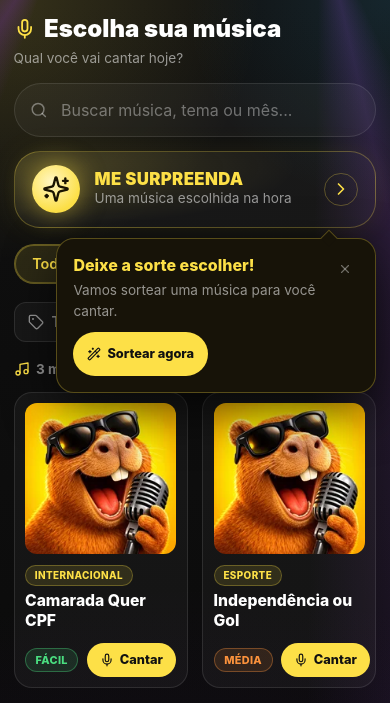
it: KaraokePage › shows the empty state for a search with no matches
This screenshot has width=390, height=703.
Expected: the text "Camarada Quer CPF" is shown, [25,591,146,630]
Type "zzzznadaaqui" into the search field labelled "Buscar música, tema ou mês..." at (195, 110), box [14,83,376,137]
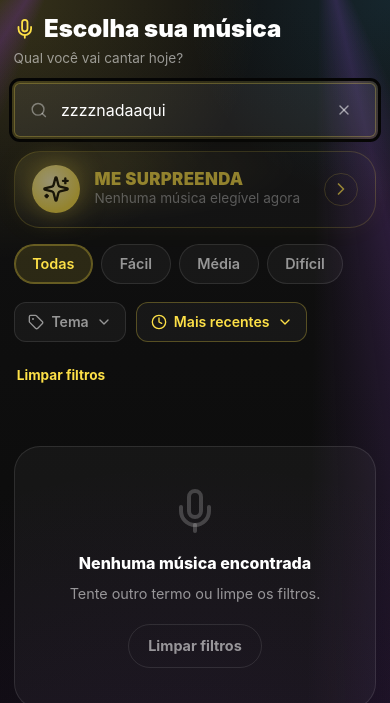
Expected: the text "Nenhuma música encontrada" is shown, [79,552,311,572]
Expected: the 1st button "Limpar filtros" is shown, [14,354,108,398]
